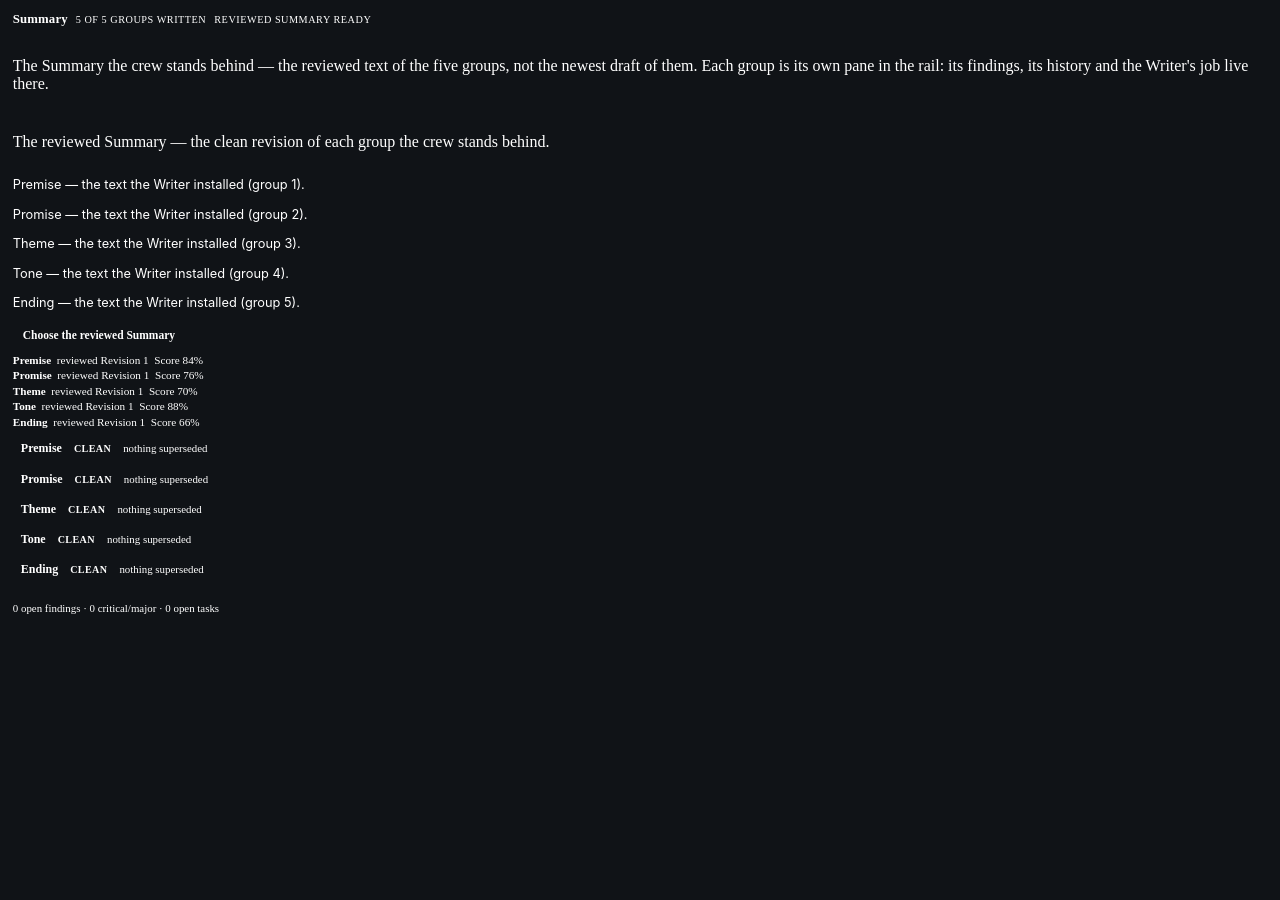
Test: SummaryOverviewPane — the Author chooses the reviewed Summary (D-68) › says so when the choice drops nothing, rather than promising a drop it cannot name
Click the button with test id "reviewed-choose-submit" at (99, 335), box top-left (13, 324), bottom-right (185, 346)
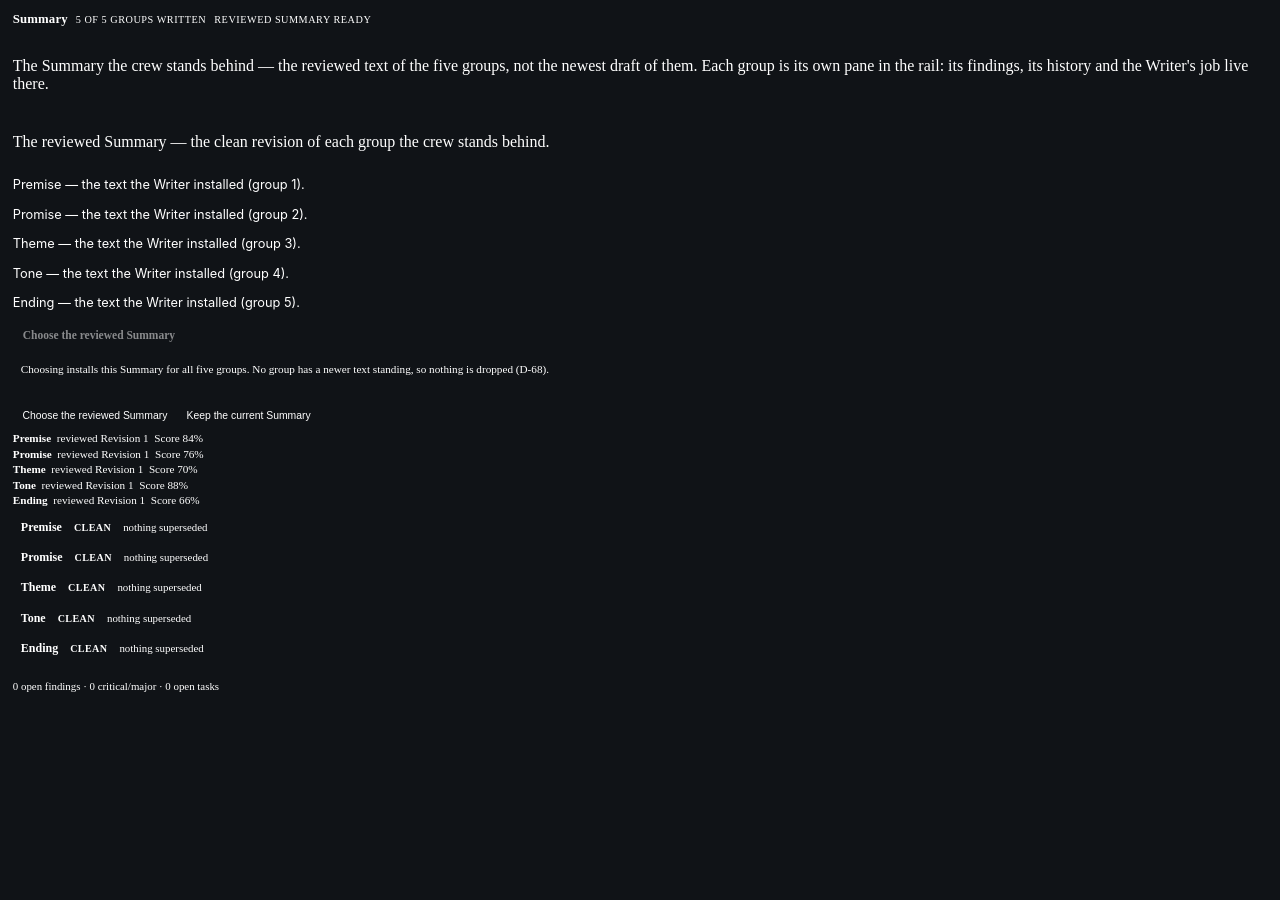
Expected: the text with test id "reviewed-choose-note" shows "Choosing installs this Summary for all five groups. No group has a newer text standing, so nothing is dropped (D-68).", top-left (21, 363), bottom-right (549, 375)
